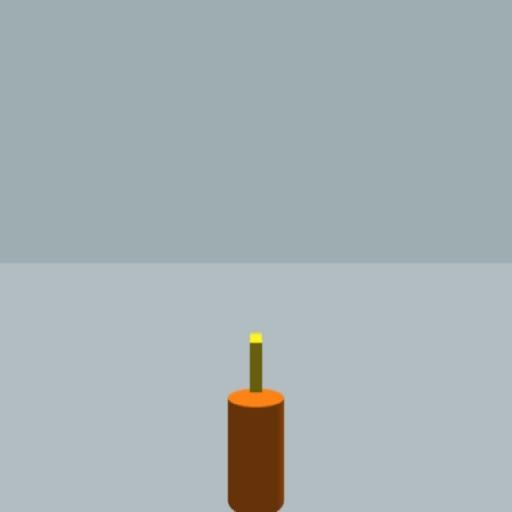buoy: (228, 330, 286, 512)
